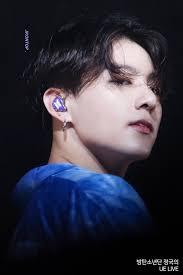earphone: (52, 96, 67, 112)
